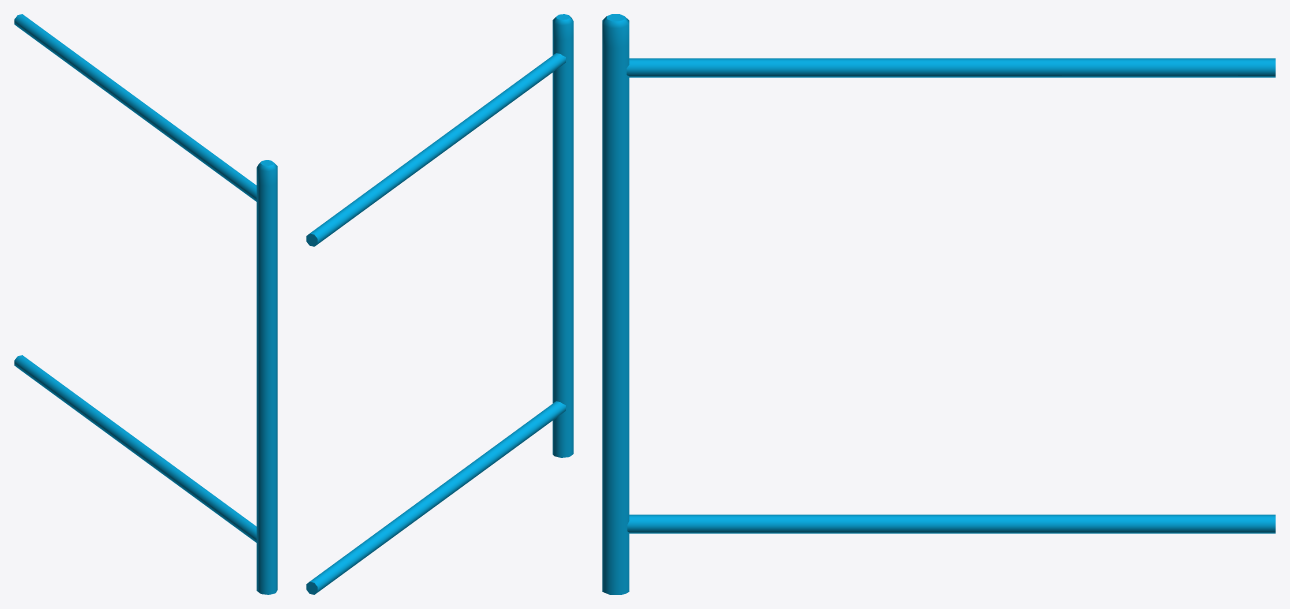
File: Garden_Fence_03_Lod0.fbx
3 views of the same model, side by side, from view 1: azimuth 30°, elevation 25°; view 2: azimuth 150°, elevation 25°; view 3: azimuth 270°, elevation 25° (orthographic). The views are drawn at different scales.
Parts seen in each view (by area): view 1: Garden_Fence_03_Lod0; view 2: Garden_Fence_03_Lod0; view 3: Garden_Fence_03_Lod0.
Part boxes in pixels (left/top/right/bottom): Garden_Fence_03_Lod0: left=14, top=14, right=277, bottom=594; Garden_Fence_03_Lod0: left=306, top=14, right=573, bottom=594; Garden_Fence_03_Lod0: left=602, top=14, right=1275, bottom=594.
Size of the model in its own units: 11.66 by 285 by 304.
